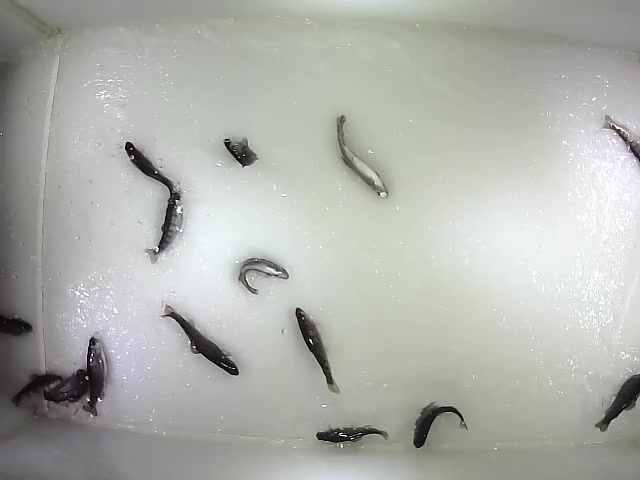fish: (159, 301, 241, 380), (334, 112, 390, 200), (294, 305, 342, 396), (143, 188, 185, 265), (122, 140, 178, 196), (411, 400, 470, 449), (235, 255, 291, 295), (10, 371, 65, 410), (81, 333, 105, 419), (314, 423, 391, 447), (43, 369, 90, 406), (221, 133, 260, 168)
